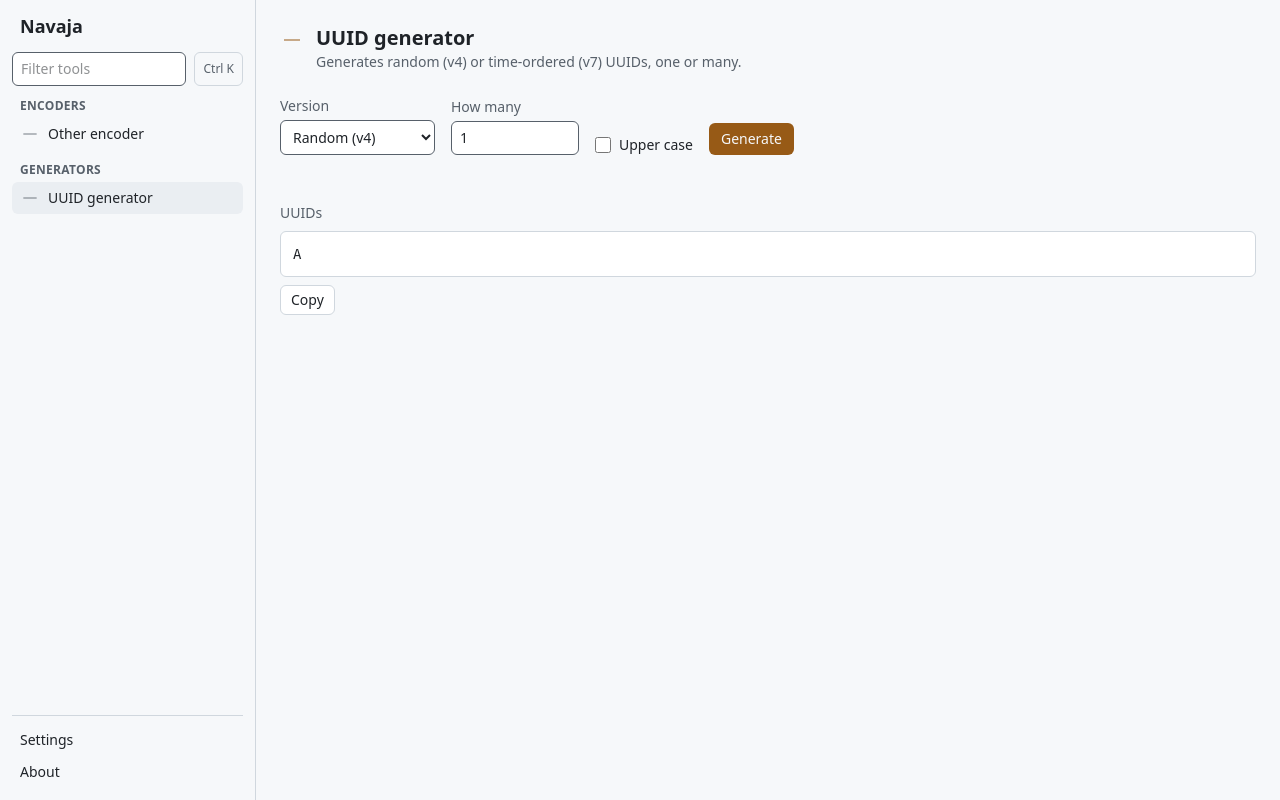
Test: shell › sends changed options and shows the error of the run the user started
This screenshot has width=1280, height=800.
Expected: the text "A" is shown, [280, 231, 1256, 277]
Select "Time-ordered (v7)" in the dropdown labelled "Version" at (358, 138), box [280, 120, 435, 155]
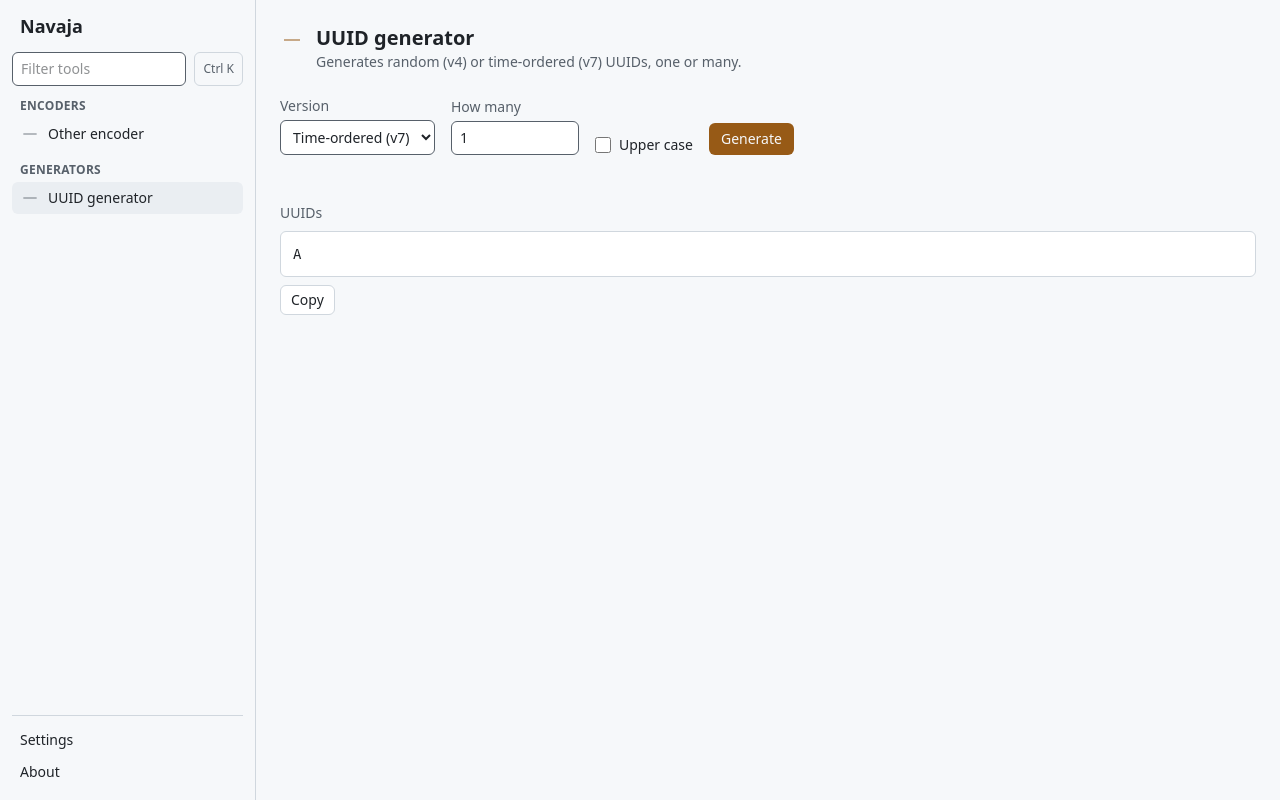
Click the button "Generate" at (752, 139), box [709, 123, 794, 155]
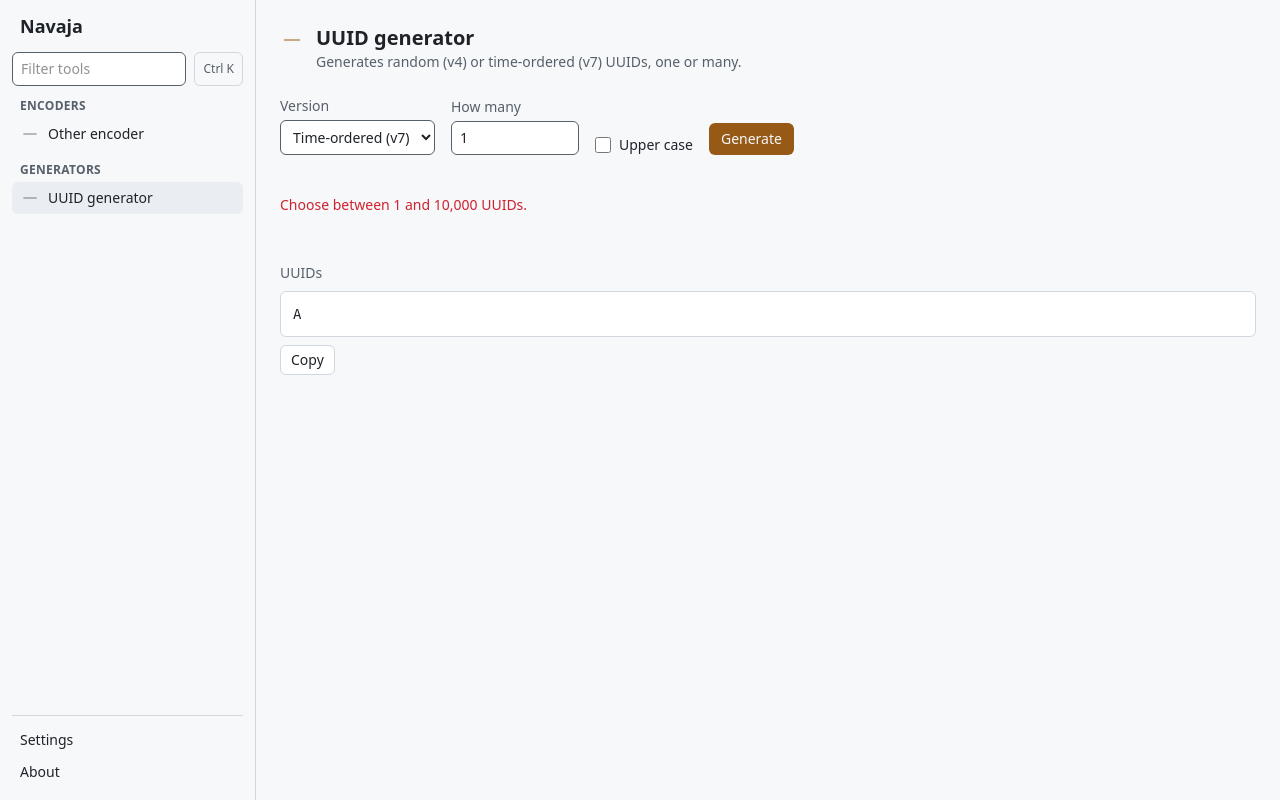
Now the message reads "Choose between 1 and 10,000 UUIDs.", box [280, 195, 527, 214]
